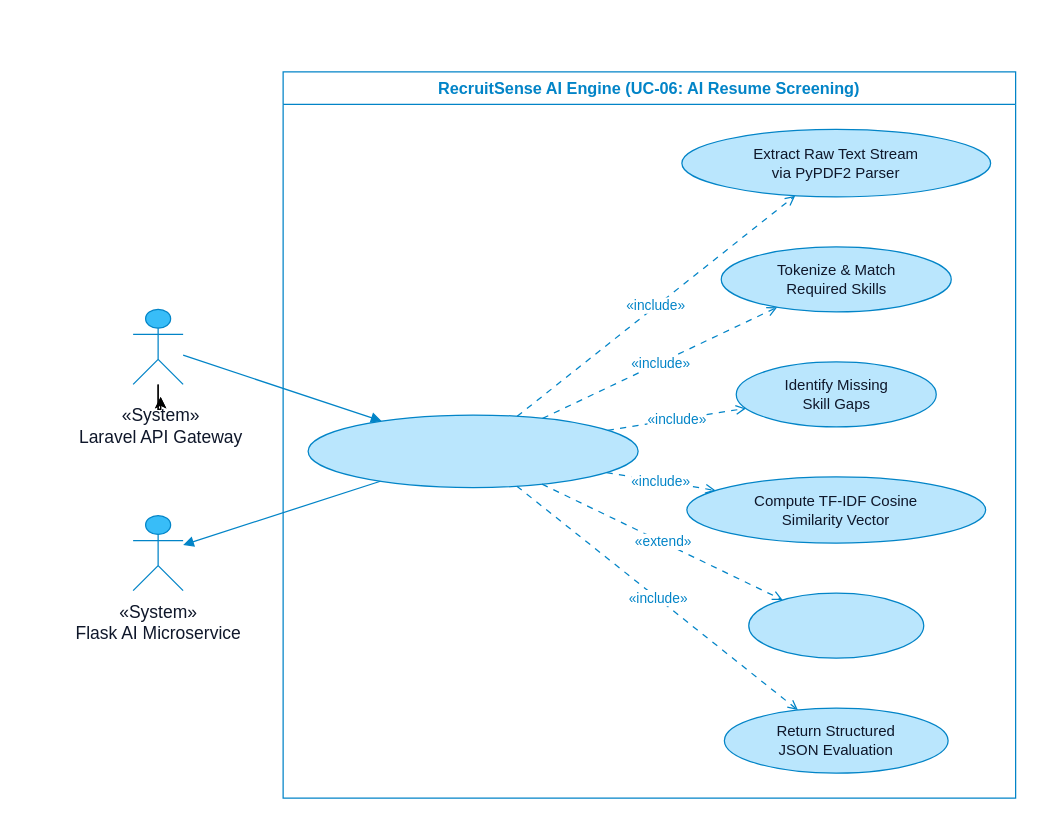
This 1038x820 diagram has some shape labels left out. Here are the shapes that lost their labels. From the top down, the centre of each, then its label:
At (x=472, y=451): "Execute Resume Screening Request".
At (x=836, y=625): "Extract Bonus Competencies".
